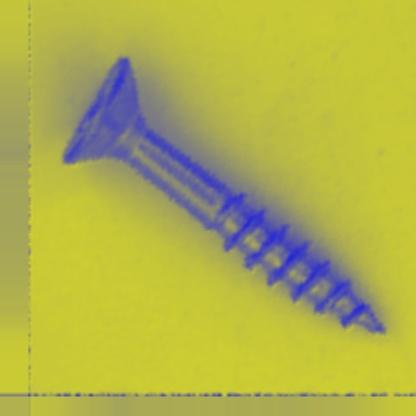metal: (61, 55, 386, 334)
